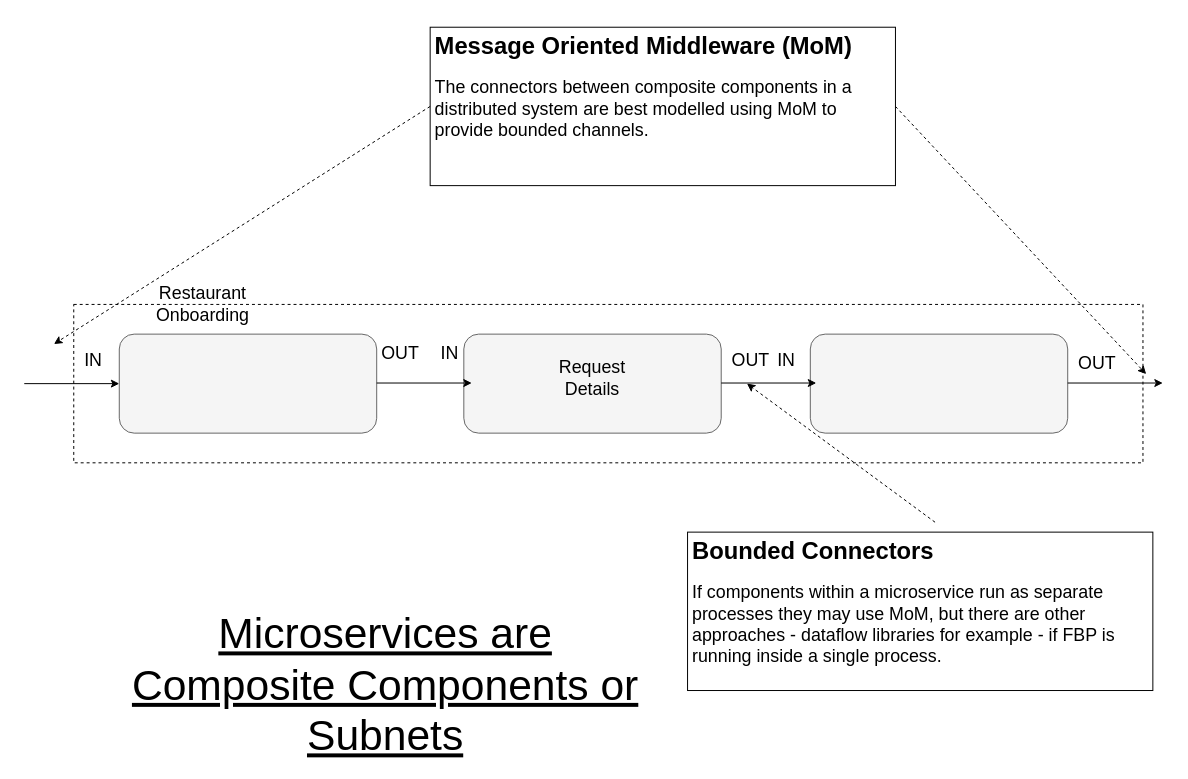
Image size: 1188x779. Some labels were removed from this diagram. Here are the shapes that lost their labels. From the top down, the box of each, then its label:
(118, 333, 377, 433): Qualify Restaurant
(809, 333, 1068, 433): Make Catalogue
